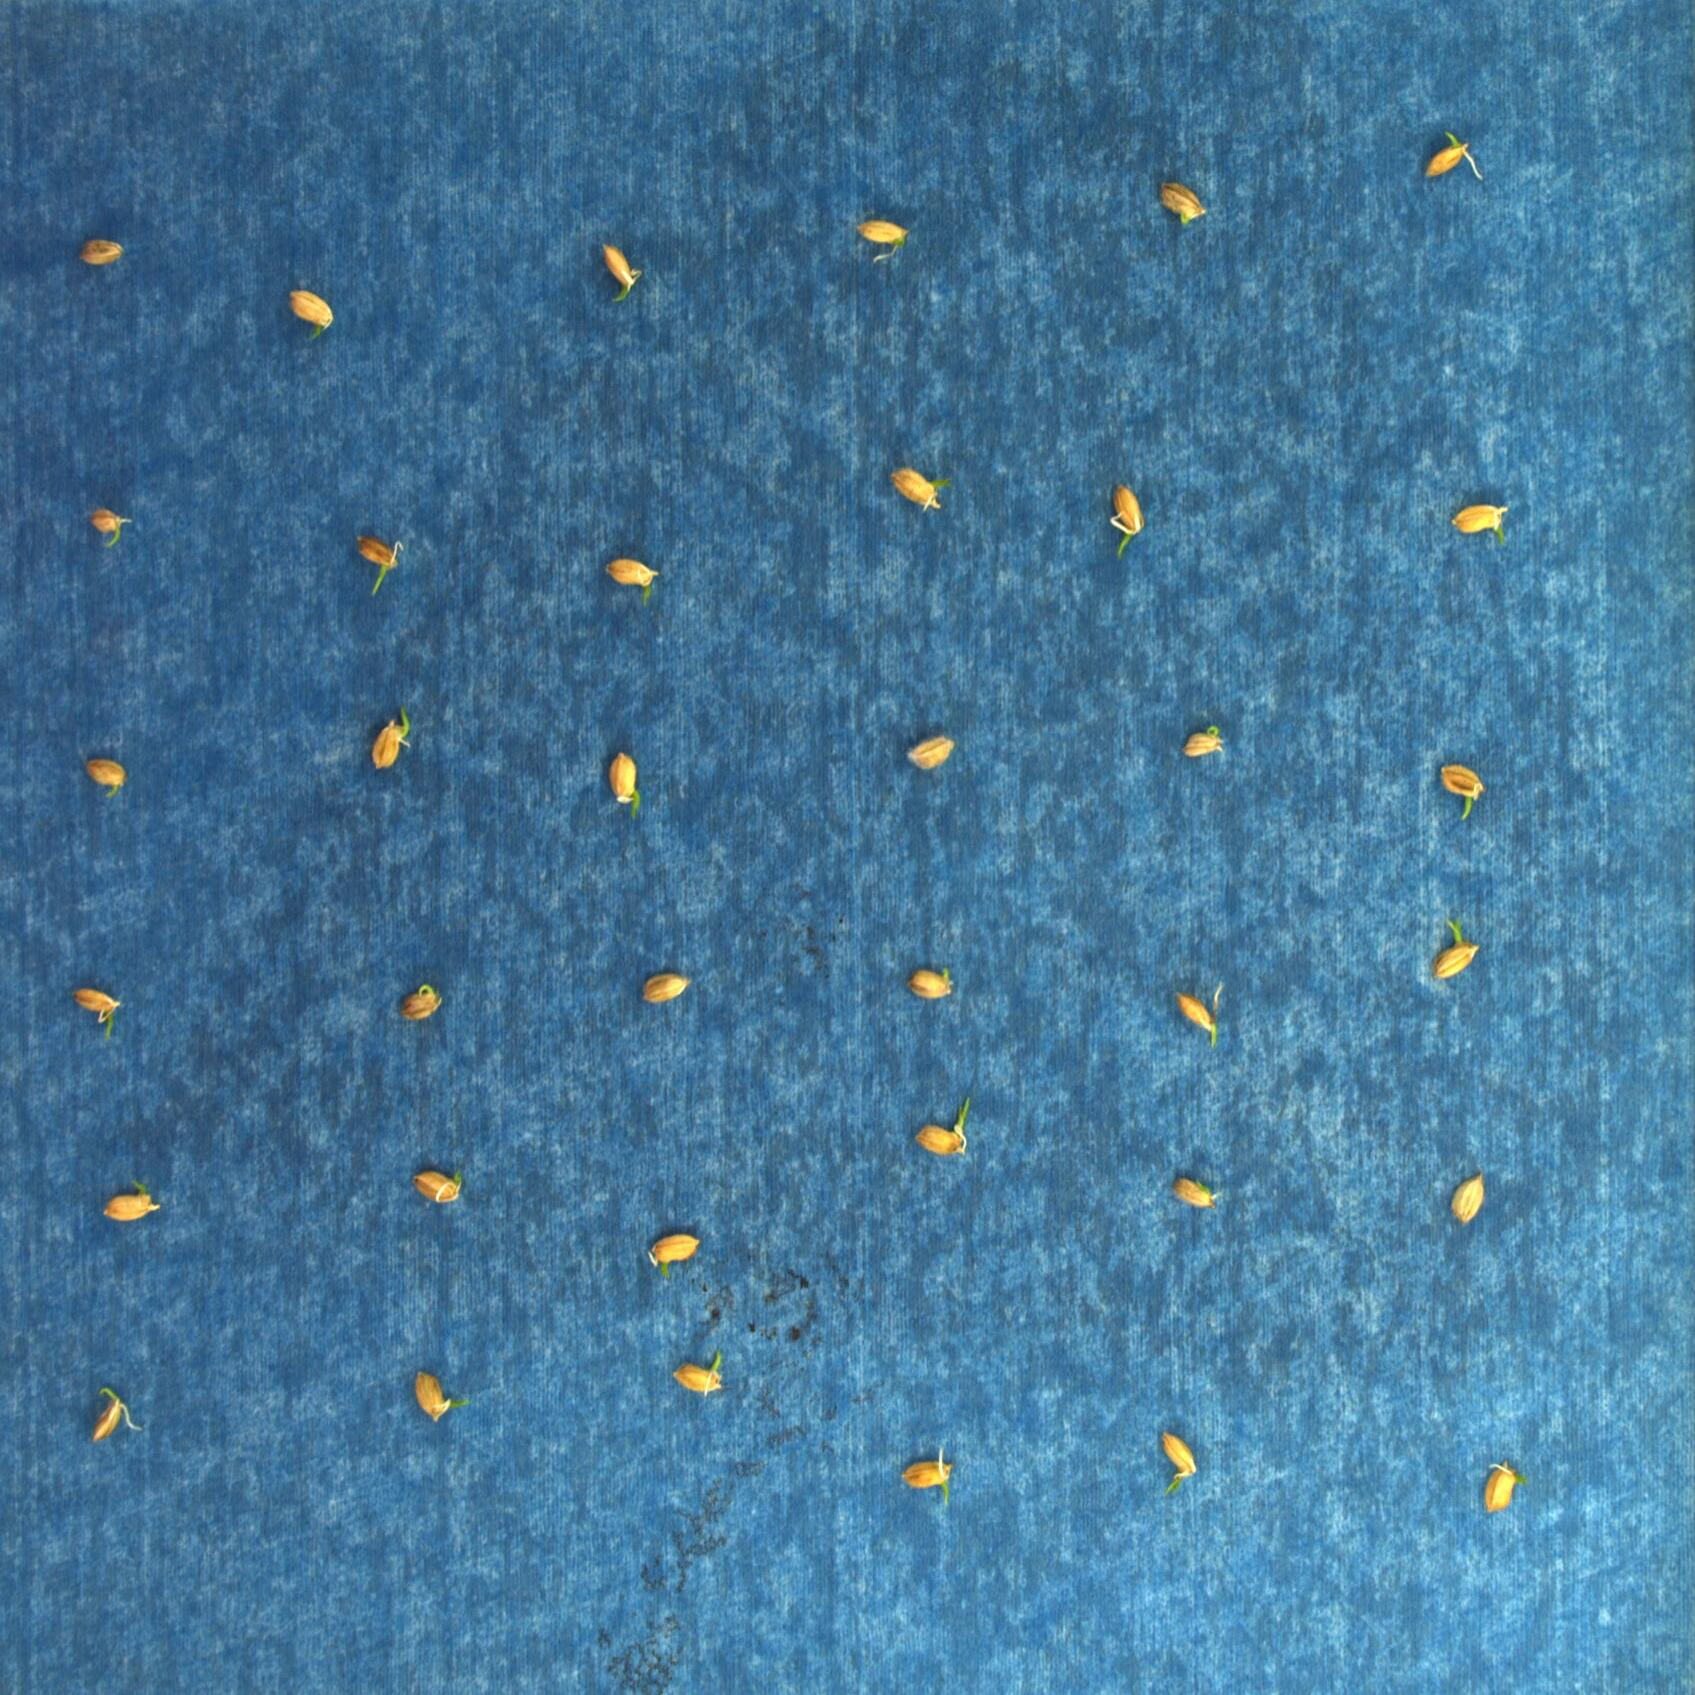not sprout: (1423, 130, 1485, 185), (1175, 983, 1226, 1048), (88, 1385, 141, 1445), (368, 705, 411, 771), (891, 467, 953, 514), (605, 559, 663, 608), (1448, 504, 1513, 548), (287, 286, 337, 338), (647, 1236, 702, 1281), (101, 1180, 158, 1222), (674, 1352, 725, 1399), (1156, 180, 1208, 224), (411, 1167, 464, 1205), (1450, 1173, 1485, 1225), (397, 983, 444, 1021), (906, 736, 958, 770), (641, 972, 692, 1004), (1173, 1175, 1222, 1209), (85, 759, 127, 798), (906, 969, 958, 1000), (1181, 725, 1225, 761), (79, 237, 126, 265)
sprout: (914, 1094, 972, 1159), (899, 1447, 958, 1509), (413, 1366, 472, 1420), (355, 532, 405, 594), (1428, 922, 1479, 981), (599, 237, 643, 304), (1107, 484, 1142, 560), (71, 986, 121, 1038), (1159, 1430, 1198, 1496), (608, 748, 643, 820), (1440, 764, 1484, 820), (858, 220, 910, 261), (1484, 1461, 1516, 1518), (92, 506, 127, 546)
